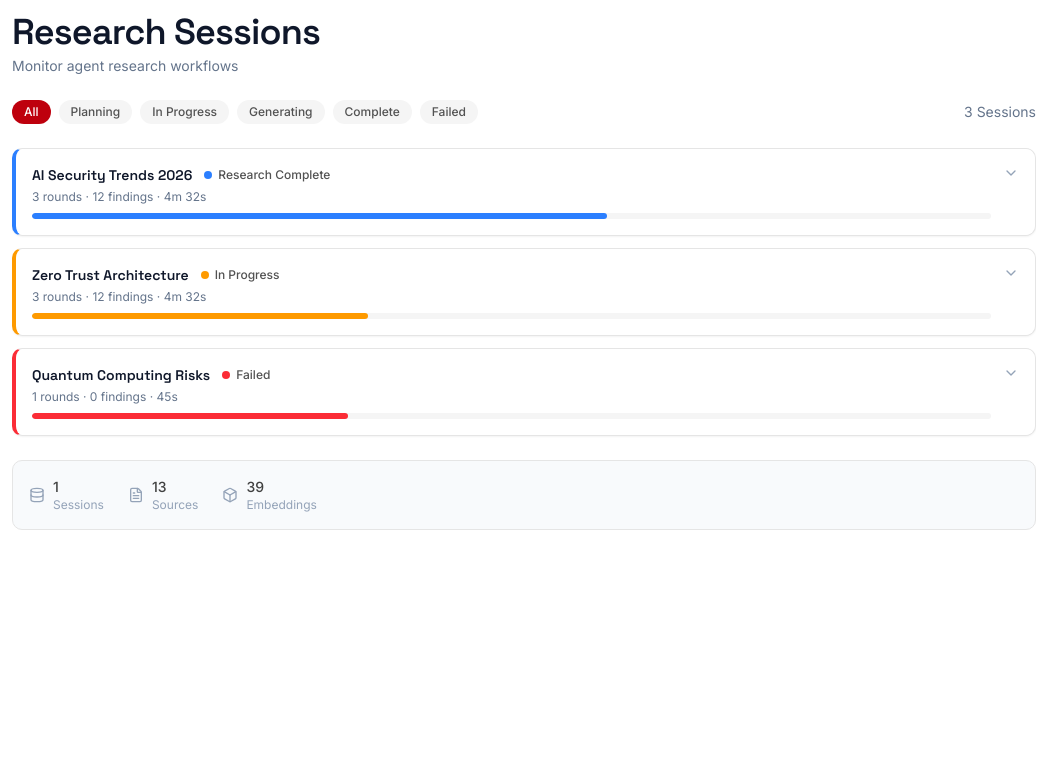
Test: ResearchPage › expands card to show agent steps
The width and height of the screenshot is (1048, 780).
What coordinates should you click on to do the following:
click the heading "AI Security Trends 2026"
I would click on:
 (112, 175)
Its box is [32,165,192,185].
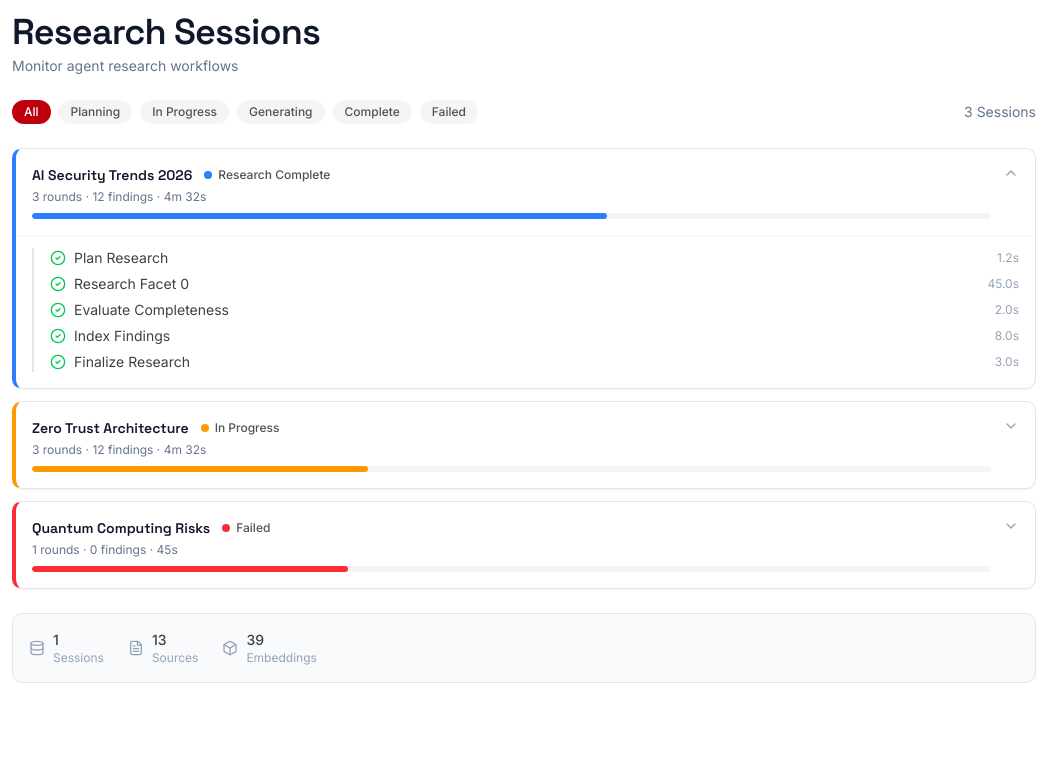
Expected: the text "Plan Research" is shown, [74,248,168,268]
